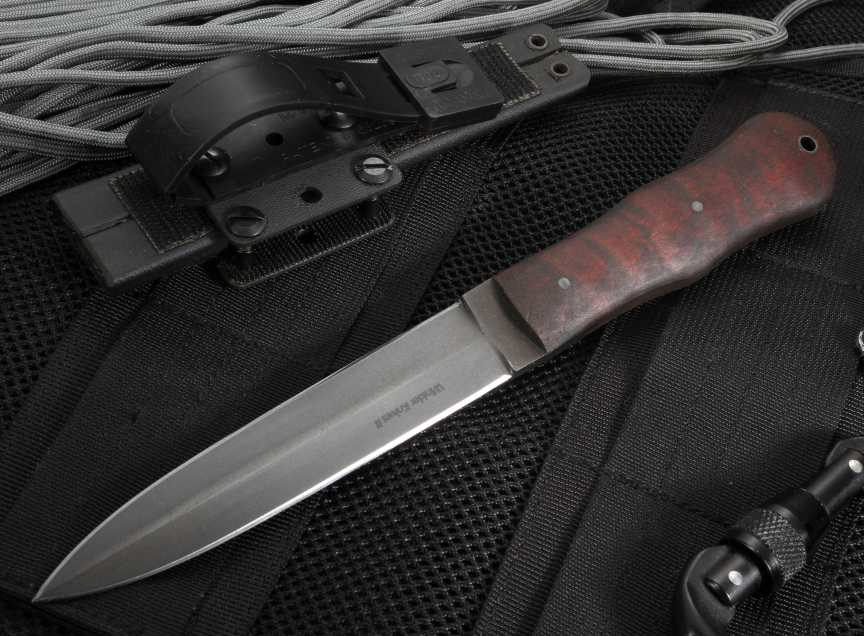knife: (28, 234, 604, 607)
